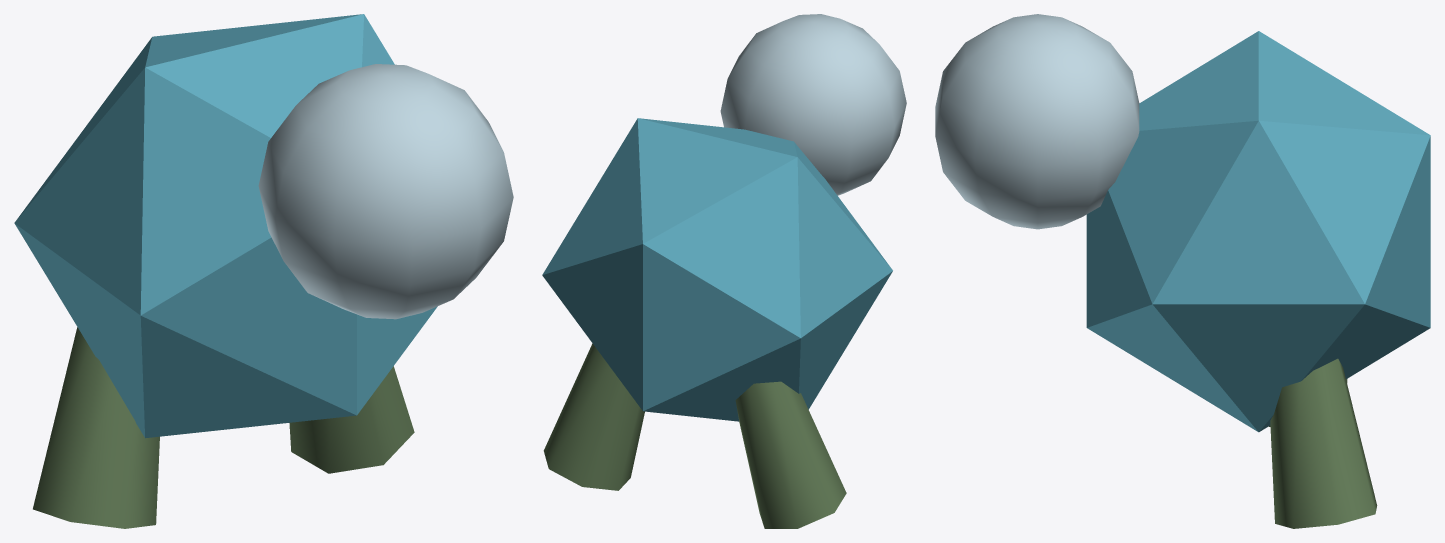
Rendered from gale_hare.glb.
3 views of the same model, side by side, from view 1: azimuth 30°, elevation 25°; view 2: azimuth 150°, elevation 25°; view 3: azimuth 270°, elevation 25° (orthographic). The views are drawn at different scales.
Visible parts, largest first — view 1: body_core, head_core, spring_-1, spring_1; view 2: body_core, head_core, spring_-1, spring_1; view 3: body_core, head_core, spring_1.
Boxes of the visible parts, <box> form: body_core: <box>14,14,437,438</box>; head_core: <box>258,64,513,319</box>; spring_-1: <box>33,327,159,528</box>; spring_1: <box>289,366,414,473</box>; body_core: <box>542,118,892,421</box>; head_core: <box>720,14,906,195</box>; spring_-1: <box>735,381,846,528</box>; spring_1: <box>543,343,644,490</box>; body_core: <box>1086,31,1430,432</box>; head_core: <box>935,14,1139,229</box>; spring_1: <box>1270,358,1377,528</box>.
Size of what is drawn, in the model's own units: 1.38 by 1.84 by 1.84.
